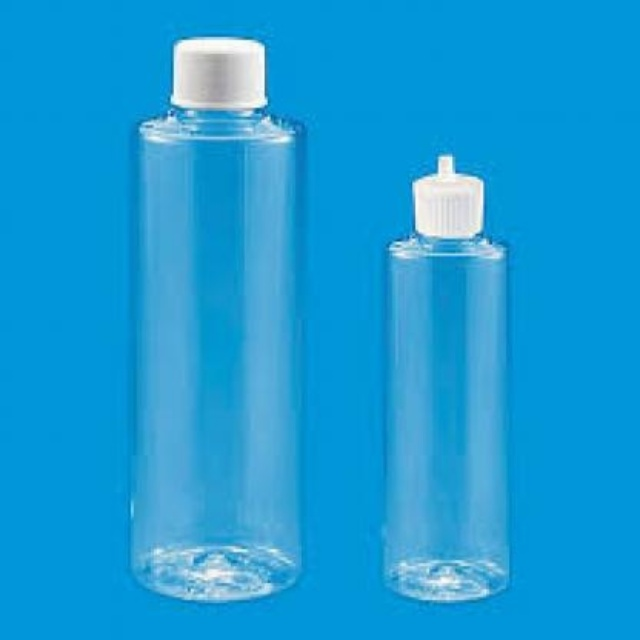trash: (131, 37, 298, 600), (383, 154, 508, 600)
